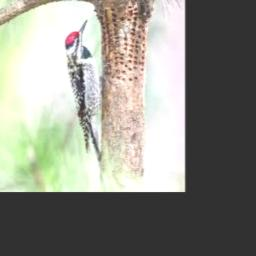Woodpecker: (66, 18, 103, 164)
